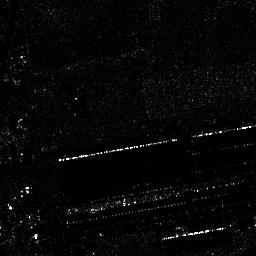ship: (6, 184, 34, 209)
